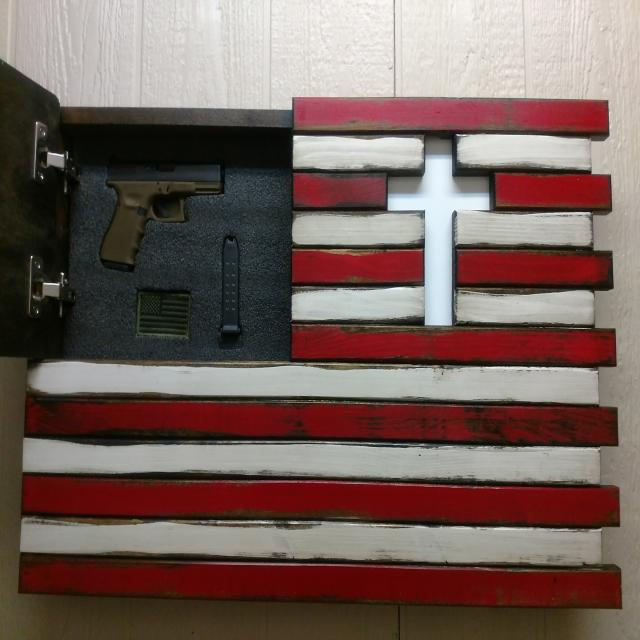HandGun: (100, 163, 225, 273)
